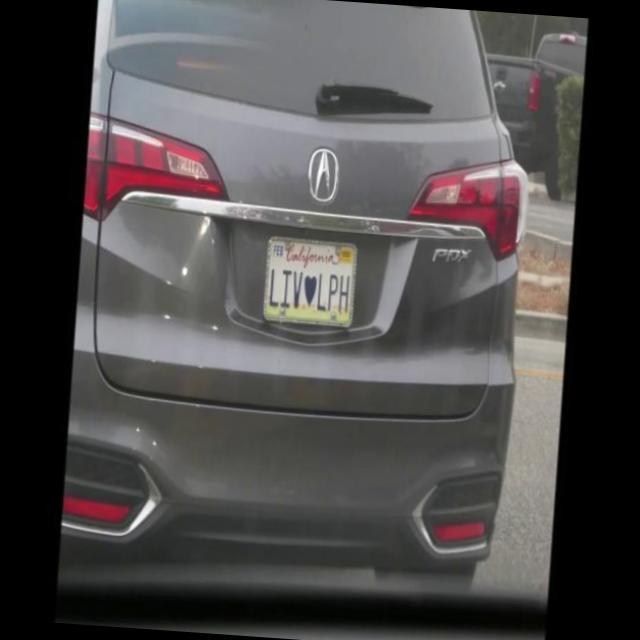LicensePlate: (256, 221, 366, 338)
